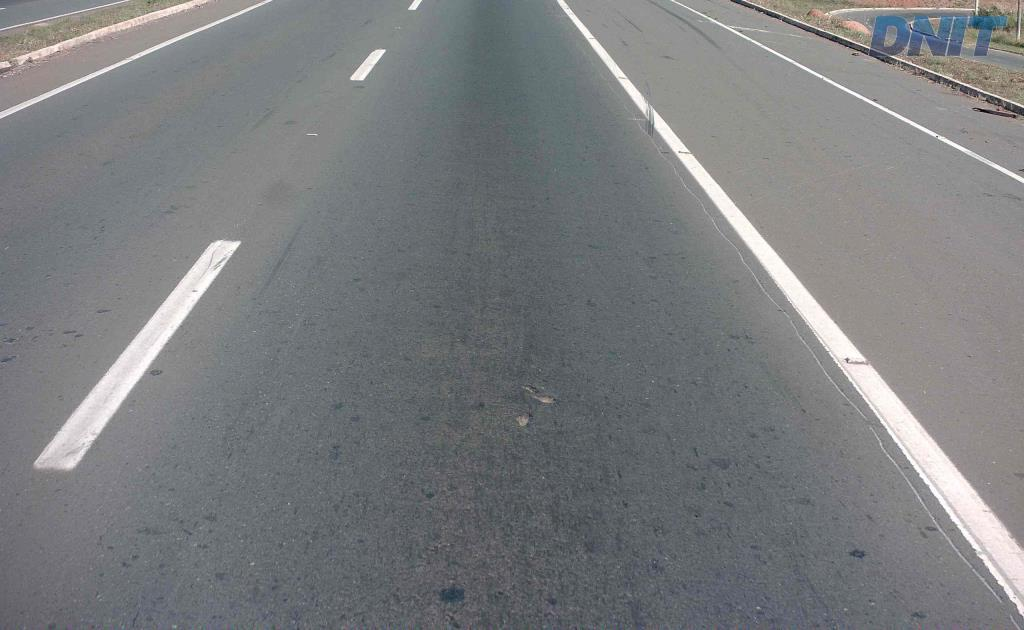pothole: (519, 382, 559, 402), (513, 408, 532, 428)
